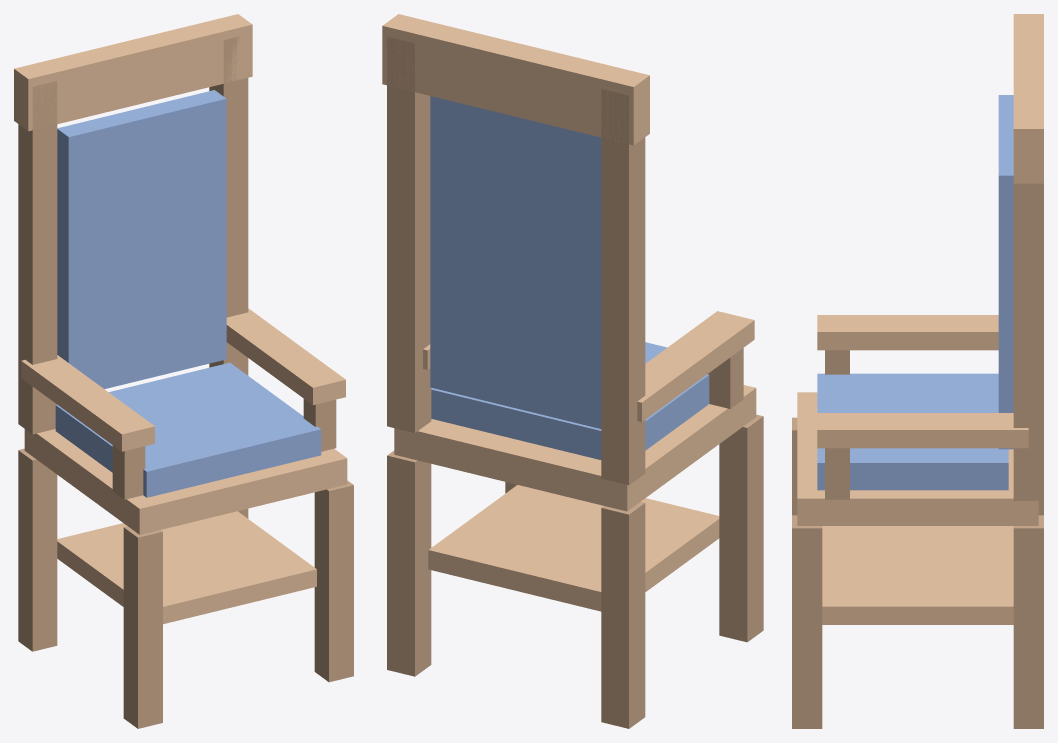
File: chairHighBack.glb
3 views of the same model, side by side, from view 1: azimuth 30°, elevation 25°; view 2: azimuth 150°, elevation 25°; view 3: azimuth 270°, elevation 25° (orthographic). The views are drawn at different scales.
Visible parts, largest first — view 1: chairHighBack; view 2: chairHighBack; view 3: chairHighBack.
Part boxes in pixels (x1,y1,x2,y2): chairHighBack: [14, 14, 353, 728]; chairHighBack: [382, 14, 763, 728]; chairHighBack: [792, 14, 1043, 728].
Size of the model in its own units: 0.27 by 0.66 by 0.25.
